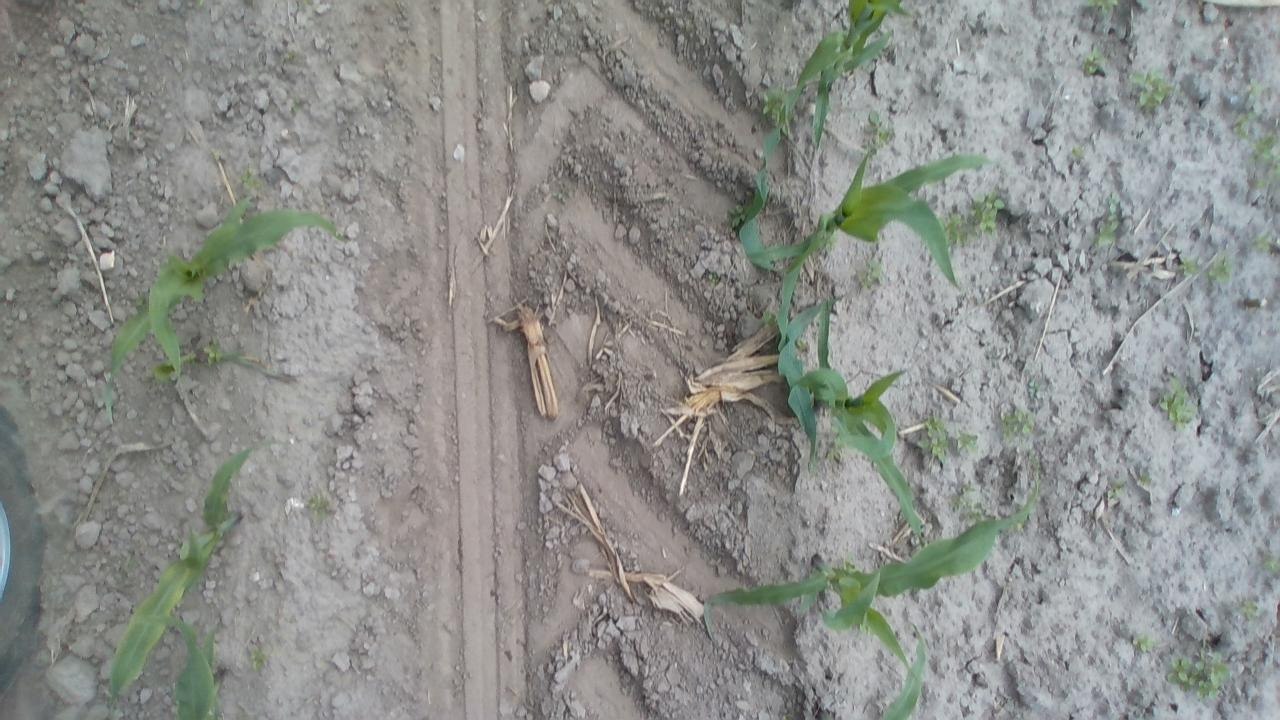Maize: (694, 467, 1048, 658), (734, 139, 1003, 350), (99, 197, 348, 424), (738, 0, 912, 273), (104, 437, 276, 712), (778, 286, 934, 542), (150, 336, 308, 393), (166, 612, 233, 720), (866, 620, 932, 720)
Weeds: (1164, 650, 1236, 704), (1154, 376, 1198, 434), (1126, 66, 1177, 114), (1246, 130, 1276, 198), (918, 408, 954, 464), (966, 186, 1006, 234), (1093, 193, 1124, 250), (996, 406, 1038, 441), (760, 86, 794, 129), (951, 485, 988, 524), (863, 110, 895, 151), (941, 206, 973, 244), (855, 260, 889, 295), (304, 488, 339, 518), (1207, 253, 1234, 288), (1080, 48, 1109, 80), (246, 642, 272, 674), (1081, 0, 1125, 18), (954, 426, 981, 455), (236, 170, 268, 194), (1128, 631, 1158, 656), (1230, 109, 1254, 140), (1177, 253, 1203, 281), (550, 178, 575, 207), (1104, 474, 1128, 503), (724, 201, 748, 230), (1258, 547, 1276, 579), (1238, 596, 1260, 622), (755, 306, 778, 330), (1236, 79, 1260, 102), (826, 438, 846, 465), (1252, 231, 1274, 255), (280, 47, 300, 69), (1024, 378, 1044, 399), (1068, 143, 1086, 165), (1134, 469, 1154, 488), (705, 268, 726, 286)
